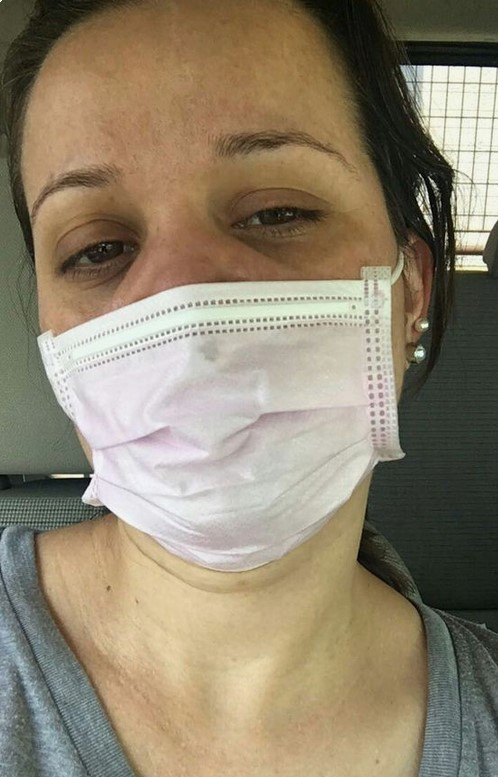face_with_mask: (11, 2, 457, 578)
